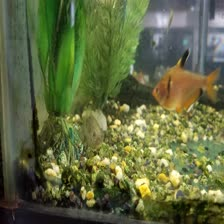Guppy: (78, 107, 108, 148)
Transparente: (148, 50, 222, 119)
